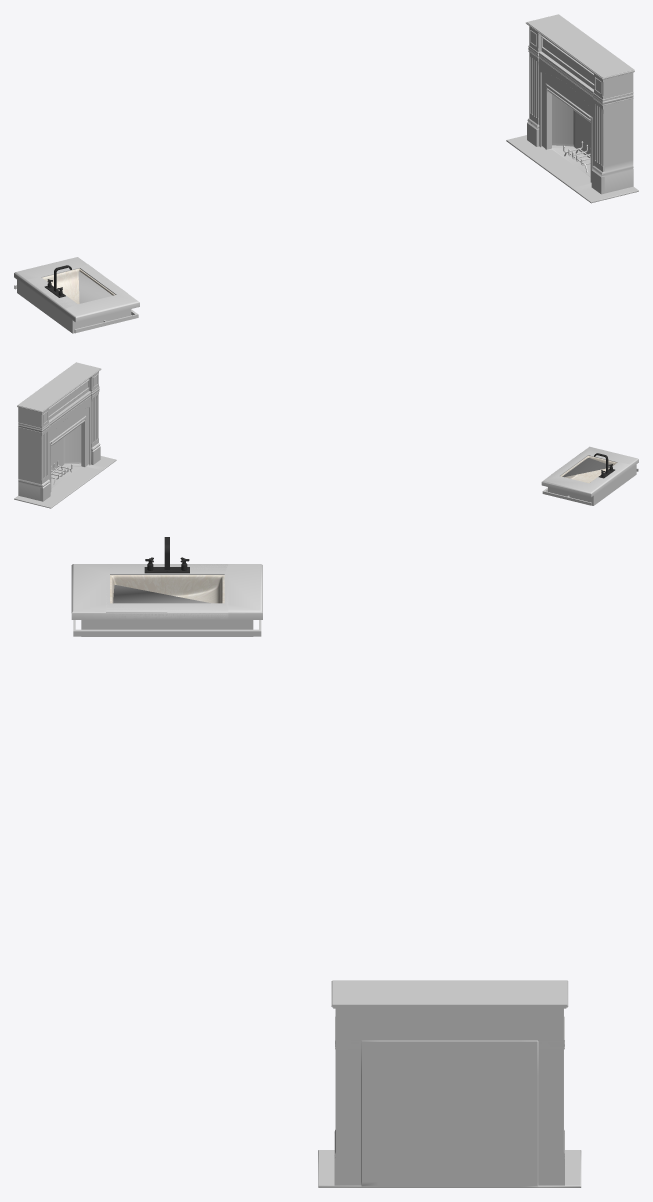
The model's file is 壁炉和浴室用品.fbx.
3 views of the same model, one above another, from view 1: azimuth 30°, elevation 25°; view 2: azimuth 150°, elevation 25°; view 3: azimuth 270°, elevation 25° (orthographic). The views are drawn at different scales.
Visible parts, largest first — view 1: Fireplace, Furnace, 空白, Top_3, objBox01; view 2: Fireplace, Furnace, 空白, Top_3, objBox01; view 3: Furnace, Fireplace, 空白, Top_3, objBox01.
Part boxes in pixels (x1,y1,x2,y2): Fireplace: (527, 26, 633, 194); Furnace: (506, 72, 638, 203); 空白: (14, 257, 139, 333); Top_3: (526, 14, 634, 79); objBox01: (42, 268, 115, 304); Fireplace: (18, 371, 100, 501); Furnace: (14, 407, 116, 508); 空白: (541, 446, 638, 505); Top_3: (17, 362, 101, 412); objBox01: (560, 455, 617, 483); Furnace: (318, 1040, 581, 1187); Fireplace: (334, 1008, 564, 1185); 空白: (71, 564, 262, 636); Top_3: (331, 980, 568, 1008); objBox01: (110, 575, 224, 603).
Size of the model in its own units: 601 by 106 by 267.
3 materials, 1 textured.
